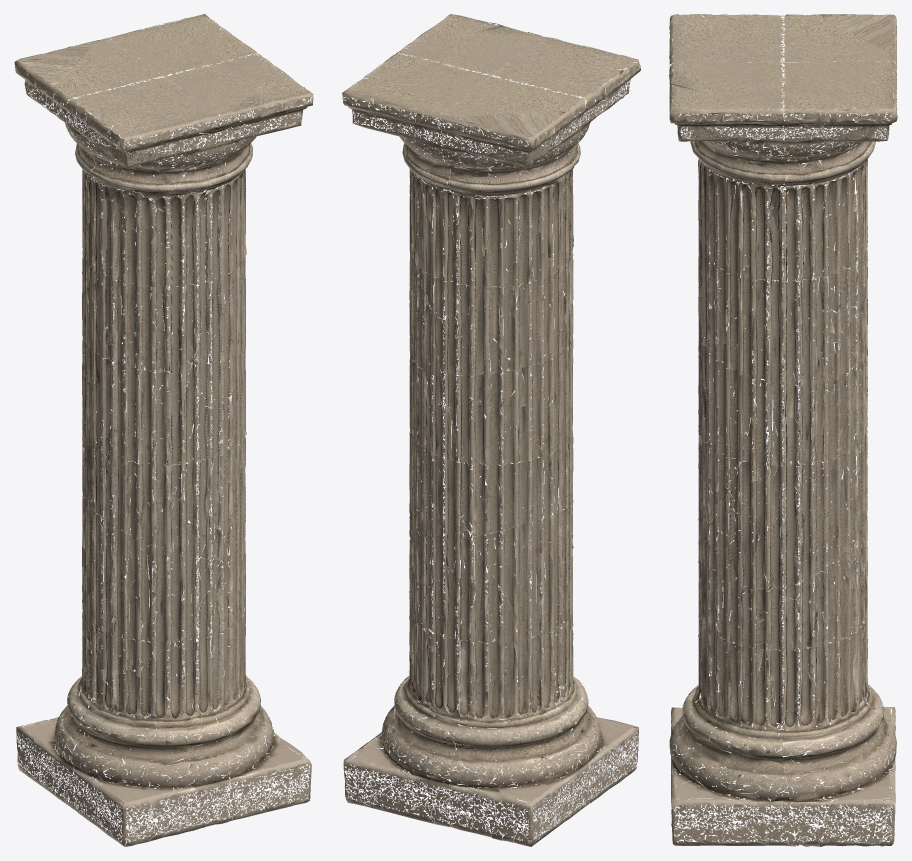
The model's file is classical-column-web.glb.
The picture shows the model from 3 angles, left to right: view 1: azimuth 30°, elevation 25°; view 2: azimuth 150°, elevation 25°; view 3: azimuth 270°, elevation 25°; orthographic projection. The views are drawn at different scales.
Visible parts, largest first — view 1: ClassicalColumn; view 2: ClassicalColumn; view 3: ClassicalColumn.
Part boxes in pixels (box(x1,y1,x2,y2)): ClassicalColumn: box(14, 14, 313, 846); ClassicalColumn: box(342, 14, 640, 846); ClassicalColumn: box(669, 14, 897, 846).
Bounding box in the file's own units: 0.2837 × 1 × 0.2812.
1 material, 1 textured.
